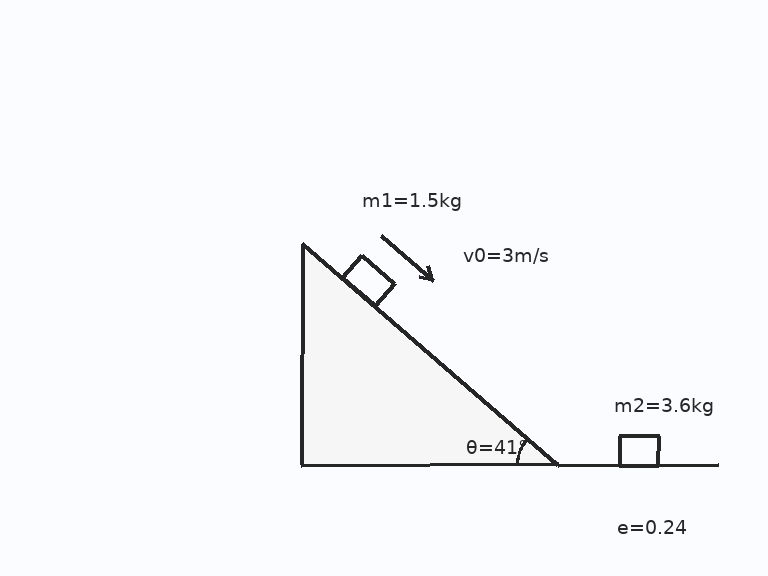block: (340, 253, 396, 308), (617, 434, 661, 467)
ramp: (301, 242, 559, 467)
